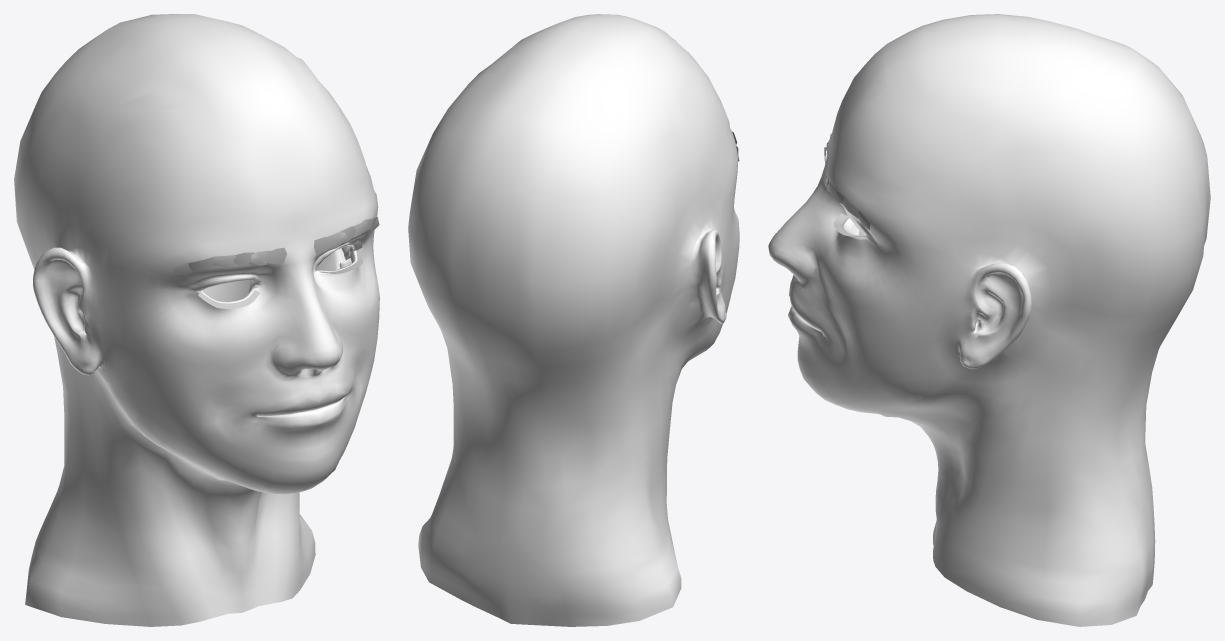
Rendered from eyeLookUpLeft.obj.
3 views of the same model, side by side, from view 1: azimuth 30°, elevation 25°; view 2: azimuth 150°, elevation 25°; view 3: azimuth 270°, elevation 25° (orthographic). The views are drawn at different scales.
Visible parts, largest first — view 1: FaceMesh_Plane.003; view 2: FaceMesh_Plane.003; view 3: FaceMesh_Plane.003.
Part boxes in pixels (bbox=[...]): FaceMesh_Plane.003: bbox=[14, 14, 379, 626]; FaceMesh_Plane.003: bbox=[408, 14, 739, 626]; FaceMesh_Plane.003: bbox=[768, 14, 1210, 626].
Bounding box in the file's own units: 1.54 × 2.71 × 1.94.
Materials: 5 (1 with a texture image).
